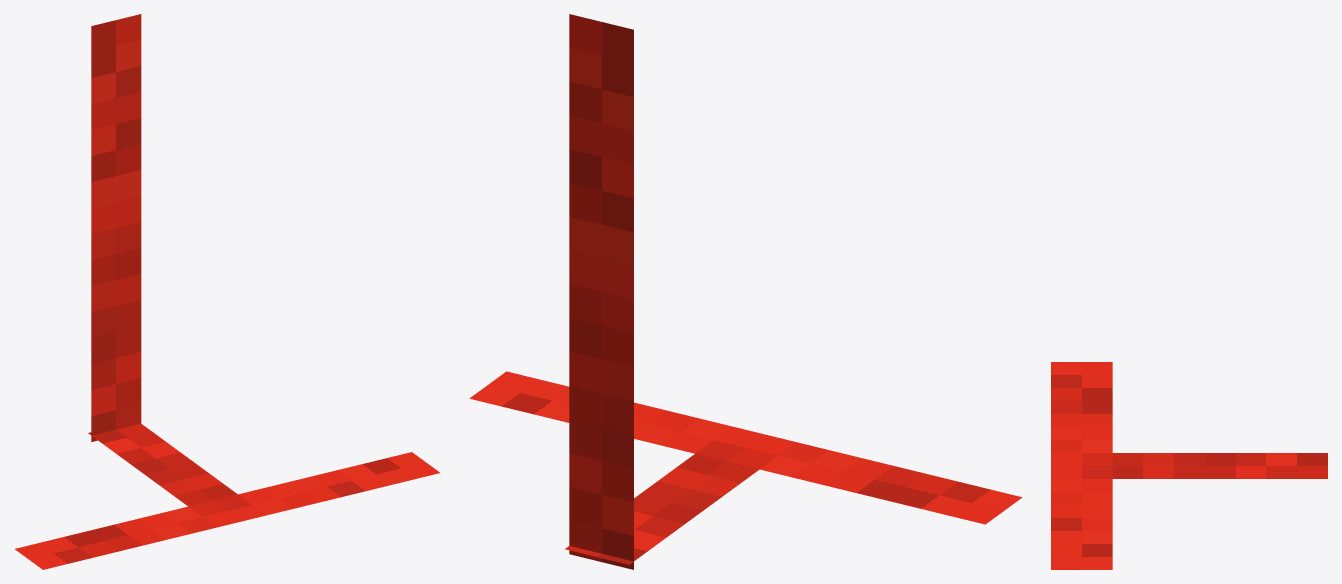
File: dust_on_1102.gltf
3 renders of one model, left to right at view 1: azimuth 30°, elevation 25°; view 2: azimuth 150°, elevation 25°; view 3: azimuth 270°, elevation 25°, orthographic. The views are drawn at different scales.
Visible parts, largest first — view 1: dust_on_1102; view 2: dust_on_1102; view 3: dust_on_1102.
Part boxes in pixels (<box>): dust_on_1102: <box>15,14,439,569</box>; dust_on_1102: <box>469,14,1022,569</box>; dust_on_1102: <box>1051,362,1327,569</box>.
Bounding box in the file's own units: 1 × 1 × 0.5625.
Materials: 1 (1 with a texture image).
